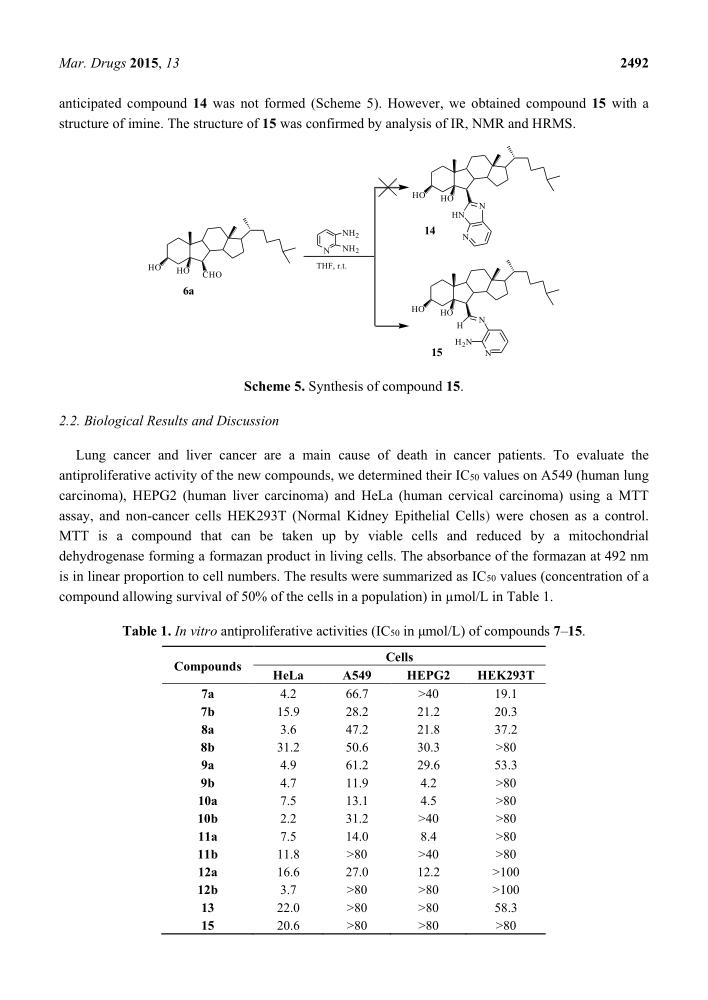table: (173, 649, 534, 932)
